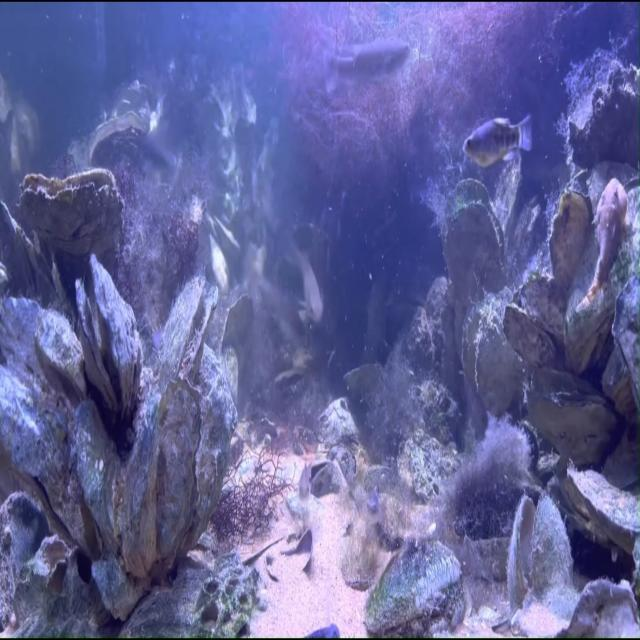Oyster- Indeterminate: (550, 191, 592, 291)
Oyster-Closed: (365, 540, 465, 638), (20, 169, 122, 256), (192, 344, 238, 536), (560, 47, 640, 152), (119, 384, 161, 578), (156, 387, 199, 558), (75, 400, 122, 553), (568, 464, 640, 553), (560, 578, 640, 638), (612, 276, 640, 404), (506, 196, 548, 267), (492, 147, 521, 238)
Oyster-Open: (0, 366, 102, 563), (75, 253, 142, 418), (528, 369, 618, 469), (444, 178, 504, 307), (508, 496, 572, 606), (462, 289, 520, 410), (158, 276, 219, 387), (504, 273, 565, 367), (35, 309, 86, 400), (90, 111, 149, 171), (221, 344, 250, 410), (221, 293, 254, 349)
